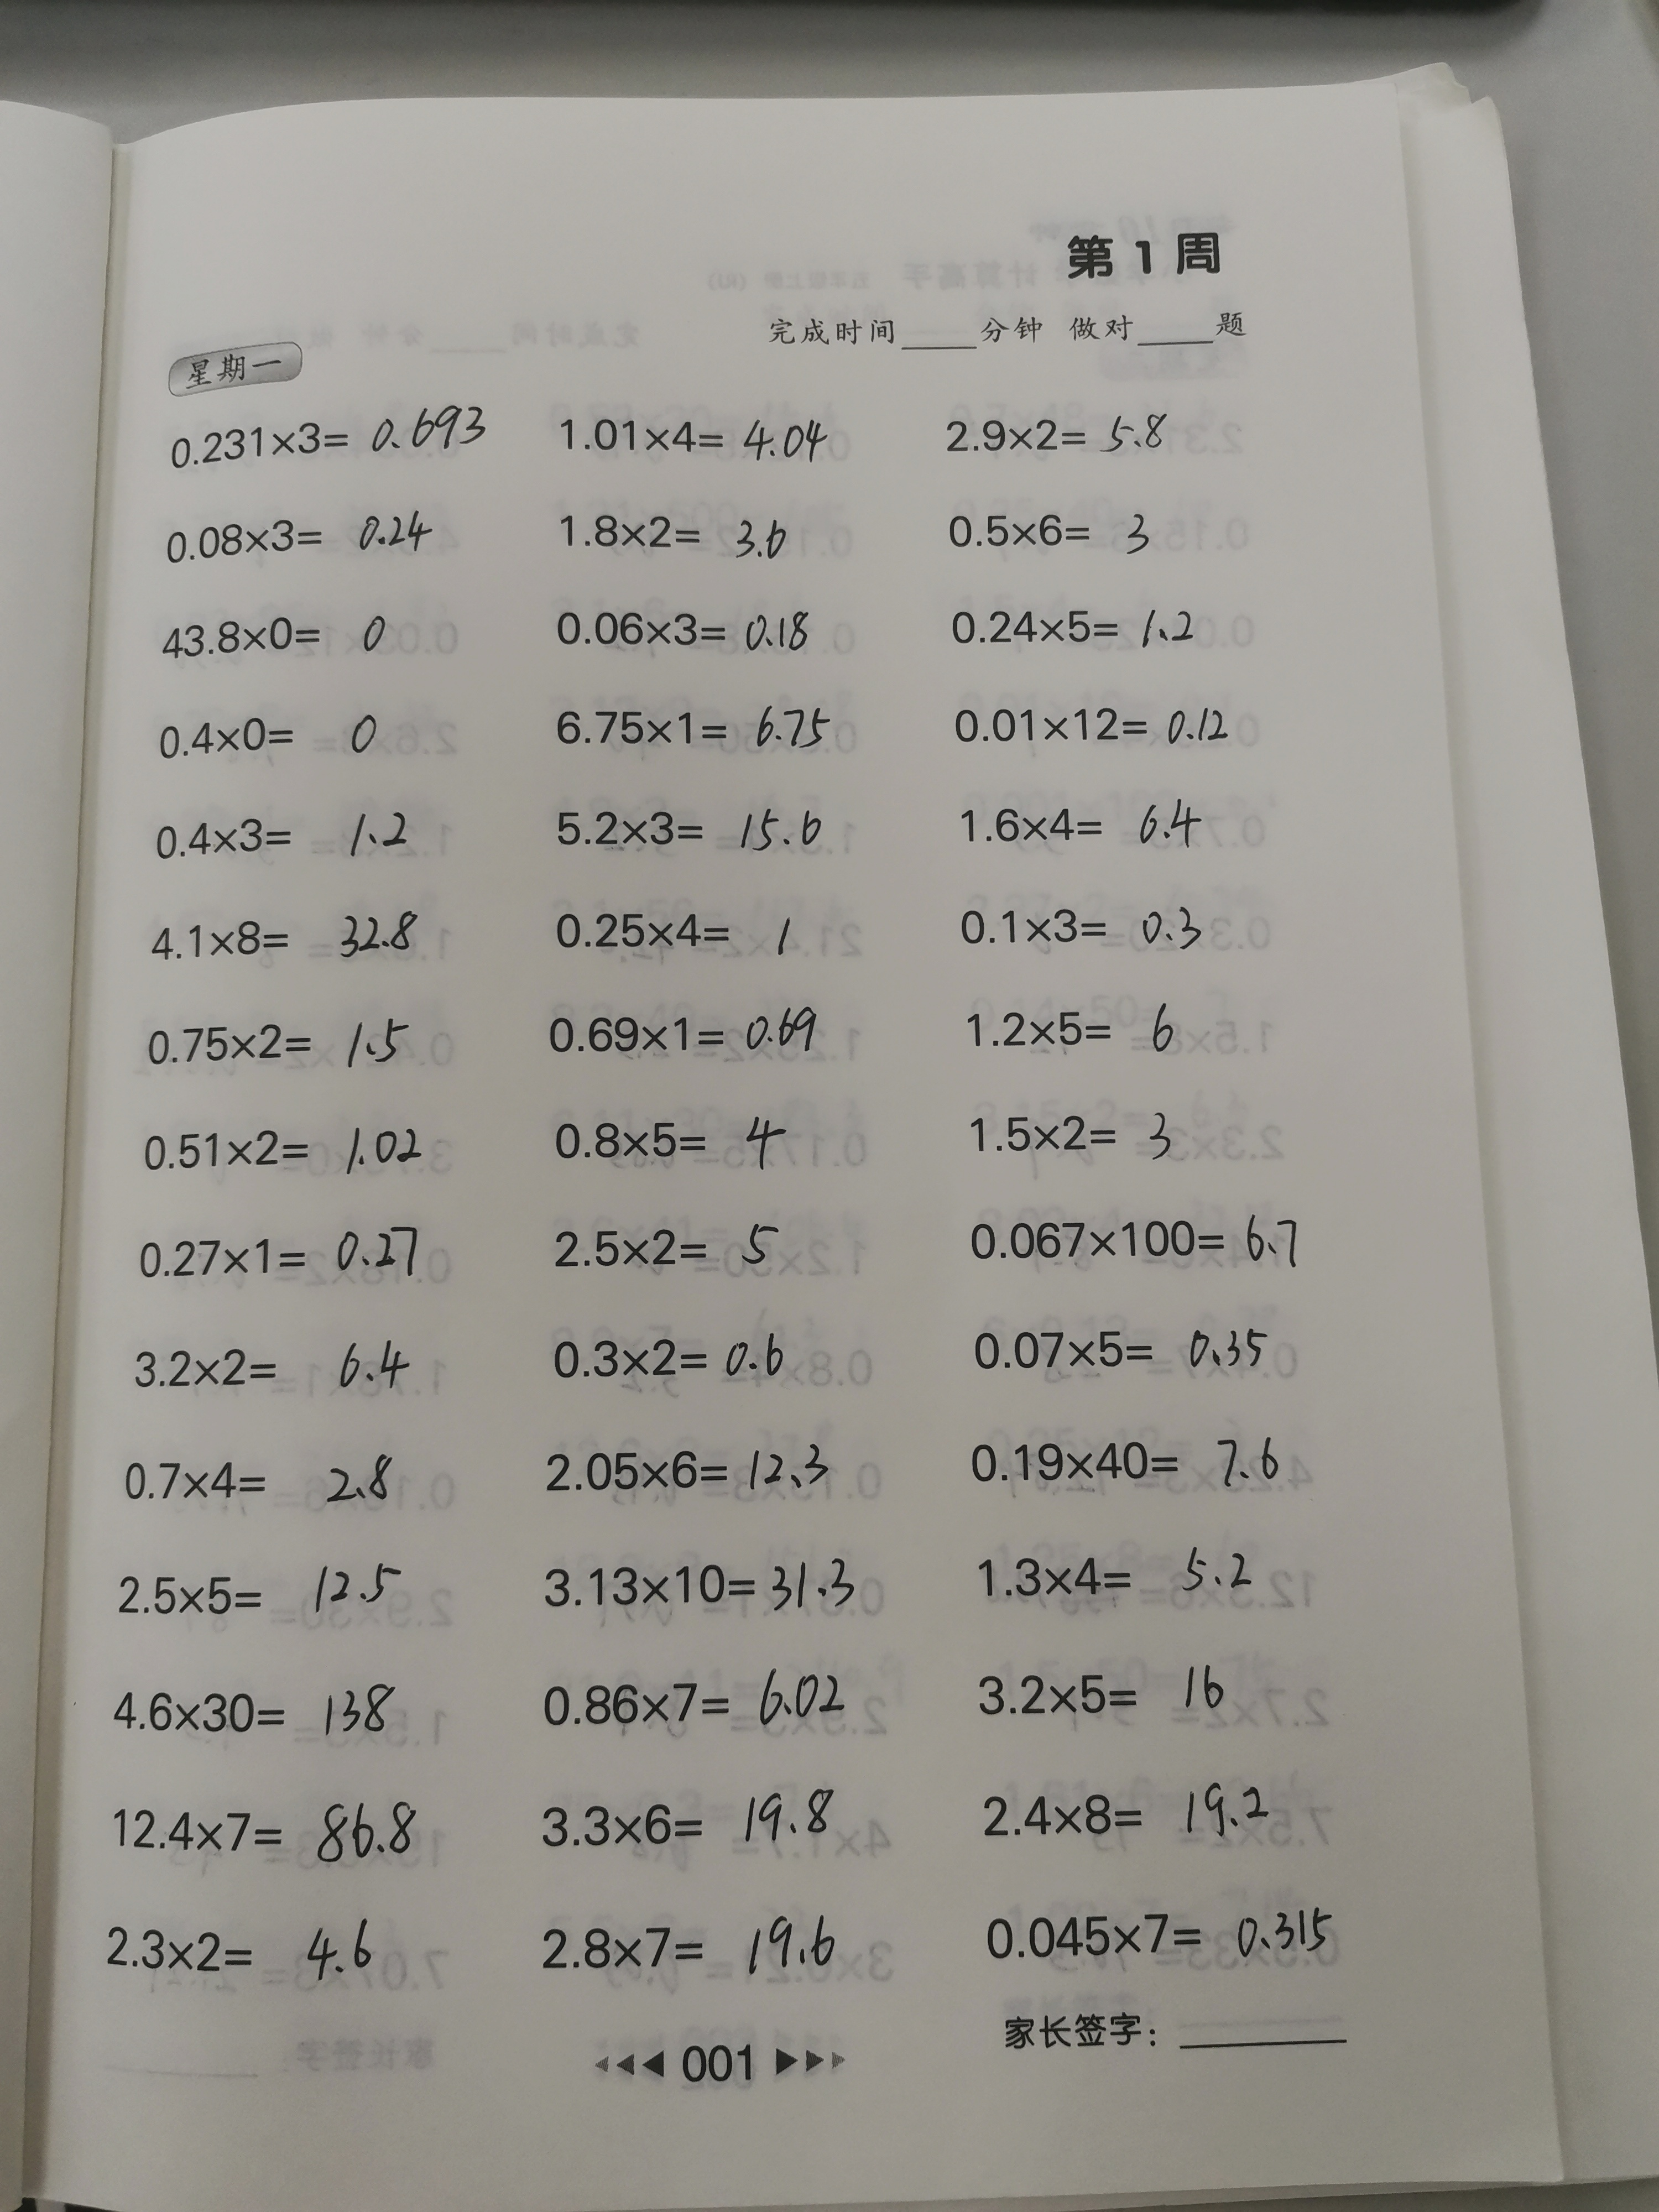equation: (955, 1407, 1323, 1515), (516, 1902, 885, 2005), (965, 1879, 1356, 1975), (512, 1770, 873, 1862), (526, 1655, 878, 1743), (958, 1205, 1335, 1287), (526, 1545, 889, 1629), (99, 1780, 439, 1869), (118, 1099, 439, 1193), (962, 1766, 1290, 1855), (103, 1658, 416, 1750), (958, 1308, 1295, 1393), (148, 394, 502, 472), (965, 1541, 1279, 1629), (89, 1902, 394, 1991), (110, 1433, 427, 1519), (106, 1552, 436, 1634), (535, 1430, 847, 1515), (958, 1658, 1249, 1747), (525, 1099, 830, 1183), (925, 685, 1249, 763), (148, 495, 446, 578), (922, 585, 1223, 667), (118, 1224, 446, 1298), (535, 888, 826, 970), (118, 1338, 436, 1413), (535, 995, 845, 1069), (125, 1010, 443, 1083), (535, 1209, 807, 1294), (542, 1320, 819, 1404), (538, 690, 840, 766), (139, 895, 436, 972), (542, 792, 847, 866), (951, 892, 1236, 970), (925, 394, 1194, 475), (948, 786, 1220, 866), (545, 496, 823, 575), (955, 988, 1220, 1069), (136, 792, 423, 866), (545, 402, 845, 472), (925, 489, 1190, 568), (542, 594, 830, 664), (955, 1103, 1227, 1176), (152, 601, 416, 671), (145, 700, 403, 766)
